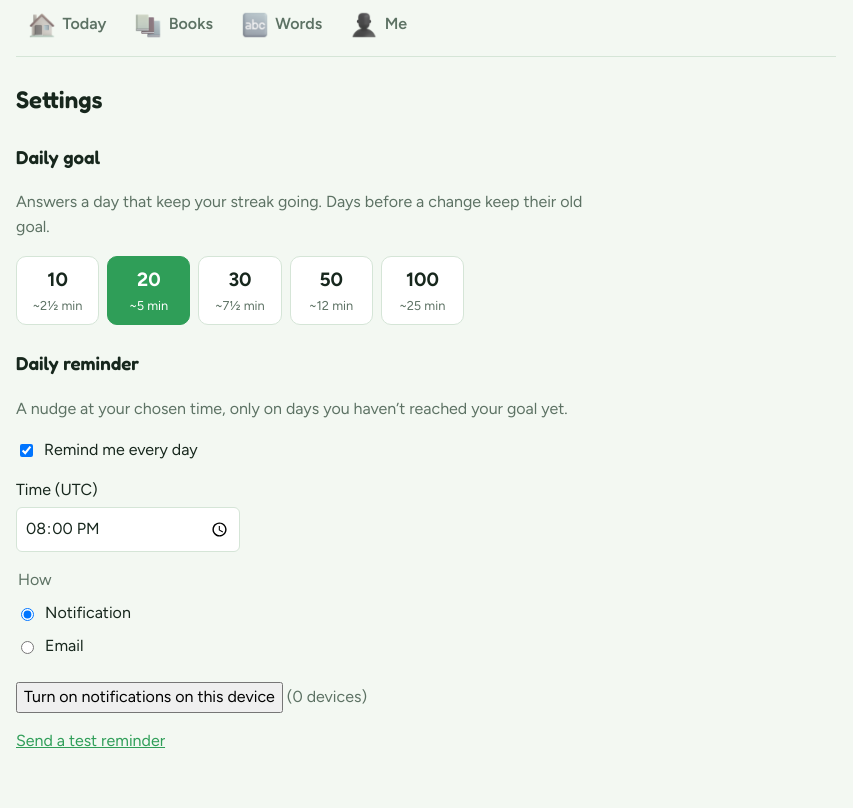
Scenario: daily reminder settings › sends a test reminder
The image size is (853, 808).
(page scrolled)
Click the button "Send a test reminder". click: (90, 742)
box: x1=16 y1=729 x2=165 y2=754
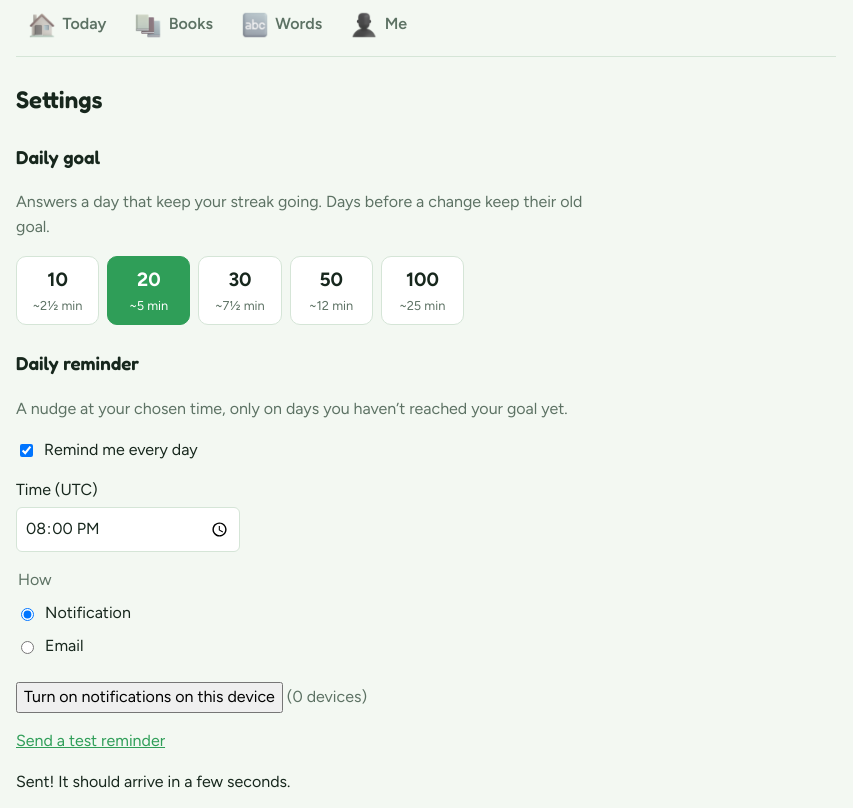
Result: the message shows "Sent!" at x1=16 y1=772 x2=290 y2=791
